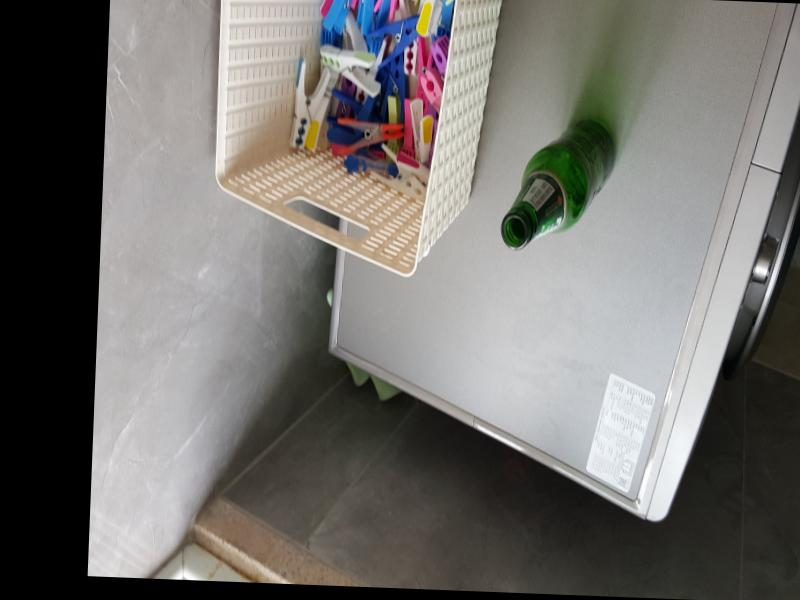Beer: (502, 117, 617, 254)
